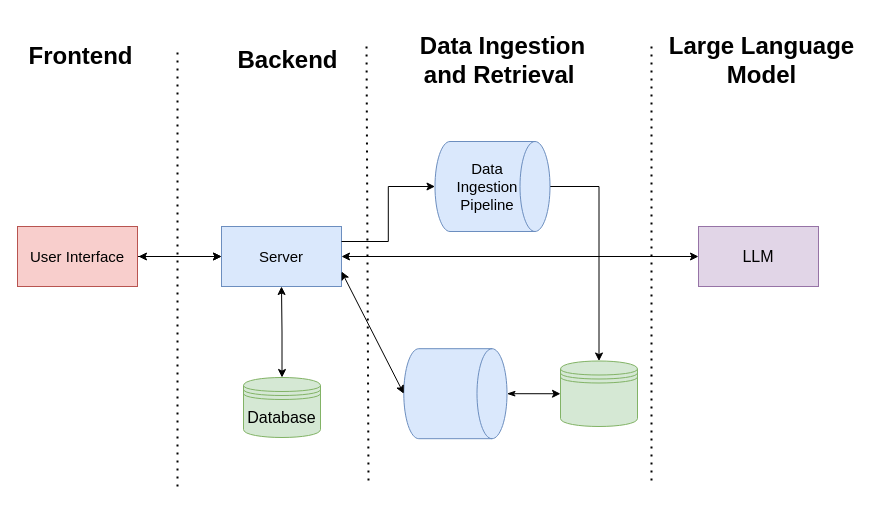
Some shapes in this 871 by 506 pixel diagram are drawn without their labels. Here are the shapes that lost their labels. From the top down, the centre of each, then its label:
the point at 455,393: Retrieval Pipeline
the point at 599,393: Vector Database
